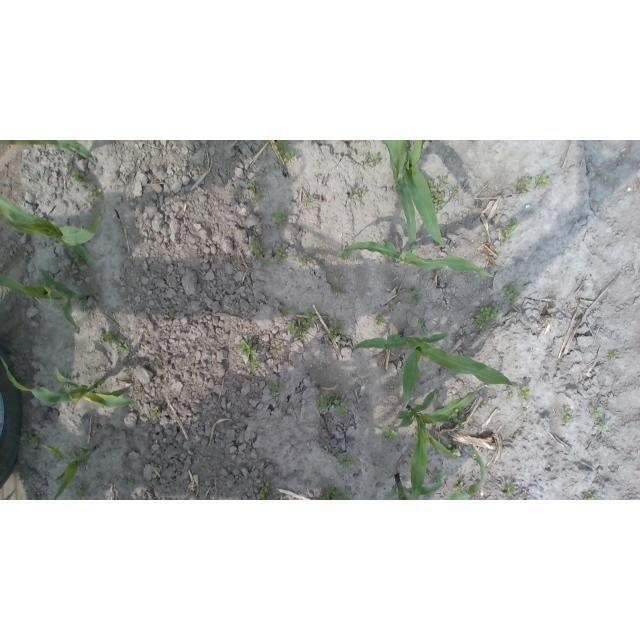Maize: (372, 386, 525, 500), (351, 327, 524, 417), (0, 351, 134, 409), (379, 140, 445, 254), (1, 194, 104, 267), (330, 238, 490, 281), (381, 444, 486, 500), (1, 267, 84, 334), (40, 442, 99, 500), (1, 140, 100, 164)
Weeds: (235, 337, 261, 371), (427, 177, 448, 214), (317, 391, 348, 415), (473, 306, 499, 329), (317, 484, 352, 501), (273, 140, 295, 162), (284, 319, 305, 342), (20, 429, 43, 448), (248, 240, 268, 261), (501, 218, 518, 242), (68, 245, 86, 267), (300, 311, 319, 330), (272, 207, 289, 228), (73, 168, 92, 186), (502, 283, 518, 303), (451, 407, 465, 429), (535, 173, 551, 190), (117, 339, 131, 358), (347, 187, 366, 201), (73, 484, 89, 500), (406, 286, 421, 303), (256, 482, 270, 500), (33, 278, 52, 291), (337, 453, 352, 469), (101, 331, 118, 345), (364, 151, 381, 165), (517, 177, 531, 194), (501, 482, 515, 499), (519, 384, 532, 400), (382, 429, 399, 441), (90, 185, 103, 200), (446, 445, 459, 460), (590, 406, 605, 419), (274, 247, 286, 263), (403, 147, 413, 166), (596, 419, 609, 433), (297, 251, 309, 266), (432, 469, 444, 484), (418, 318, 428, 335), (580, 491, 598, 500), (268, 381, 281, 393), (327, 326, 338, 340), (560, 410, 572, 422), (374, 315, 387, 326), (339, 247, 350, 260), (150, 405, 161, 417), (454, 480, 465, 492), (55, 303, 68, 313), (247, 181, 260, 191), (606, 349, 619, 359), (336, 319, 345, 333), (252, 194, 263, 205), (270, 344, 280, 355), (305, 195, 315, 206), (123, 364, 131, 377), (260, 259, 271, 268), (332, 281, 341, 292), (278, 309, 292, 316), (168, 307, 176, 319), (505, 392, 514, 401), (453, 183, 459, 195), (412, 429, 419, 439), (354, 458, 361, 466), (279, 492, 284, 500), (469, 141, 477, 146), (270, 474, 277, 479), (601, 386, 608, 391), (87, 351, 93, 356), (363, 394, 369, 398)
